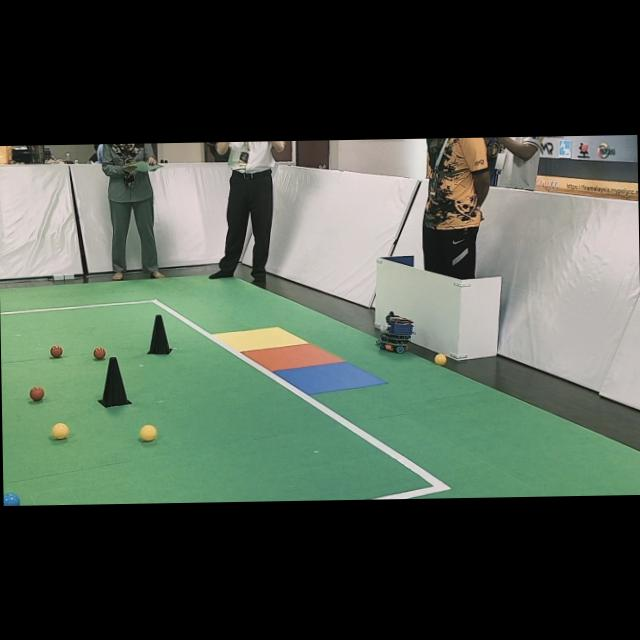ball: (139, 424, 157, 441), (52, 422, 69, 439), (29, 386, 45, 401), (3, 493, 19, 506), (93, 346, 106, 359), (49, 345, 63, 357), (433, 353, 447, 365)
goal: (275, 361, 386, 394), (243, 343, 343, 371), (214, 327, 307, 351)
